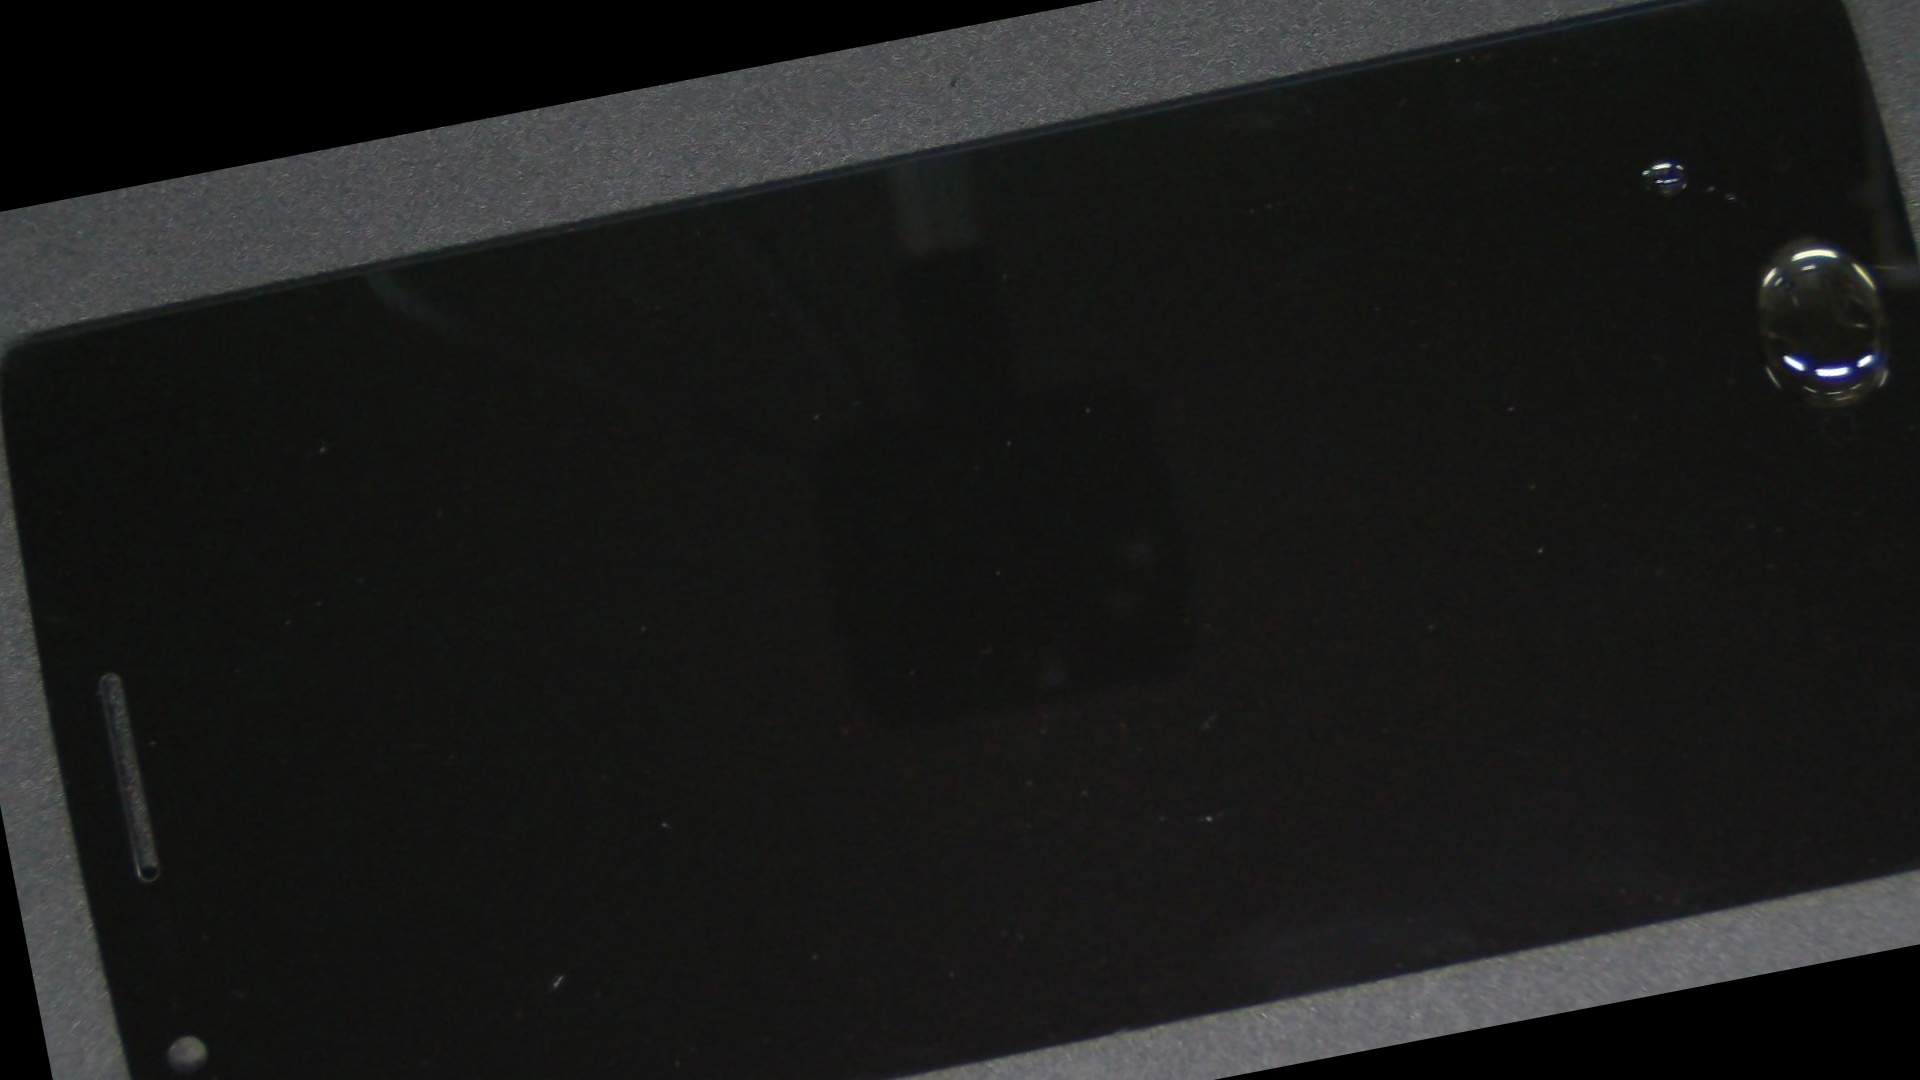oil: (848, 26, 1920, 595), (810, 0, 1920, 516), (777, 0, 1920, 455)
